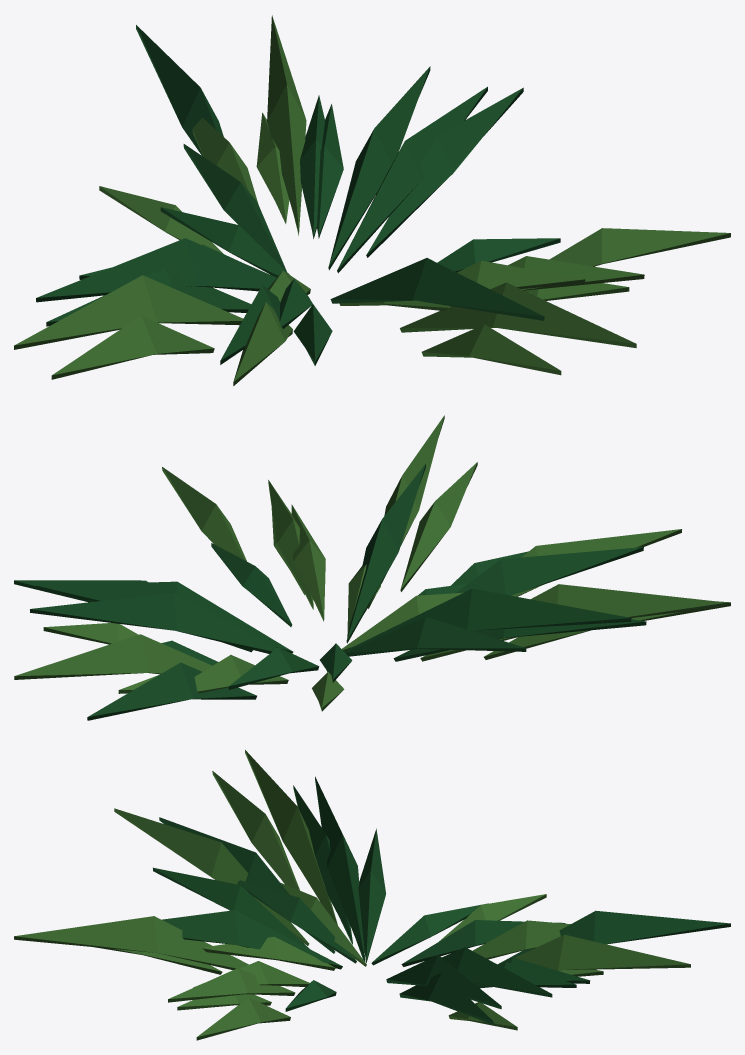
File: Tufo_de_grama_LOD0.fbx
3 renders of one model, top to bottom at view 1: azimuth 30°, elevation 25°; view 2: azimuth 150°, elevation 25°; view 3: azimuth 270°, elevation 25°, orthographic. The views are drawn at different scales.
Parts seen in each view (by area): view 1: Tufo_de_grama_LOD0; view 2: Tufo_de_grama_LOD0; view 3: Tufo_de_grama_LOD0.
Boxes of the visible parts, <box> form: Tufo_de_grama_LOD0: <box>14,15,730,385</box>; Tufo_de_grama_LOD0: <box>14,415,730,720</box>; Tufo_de_grama_LOD0: <box>14,750,730,1040</box>.
Bounding box in the file's own units: 129 × 18.38 × 149.
Materials: 1 (1 with a texture image).
